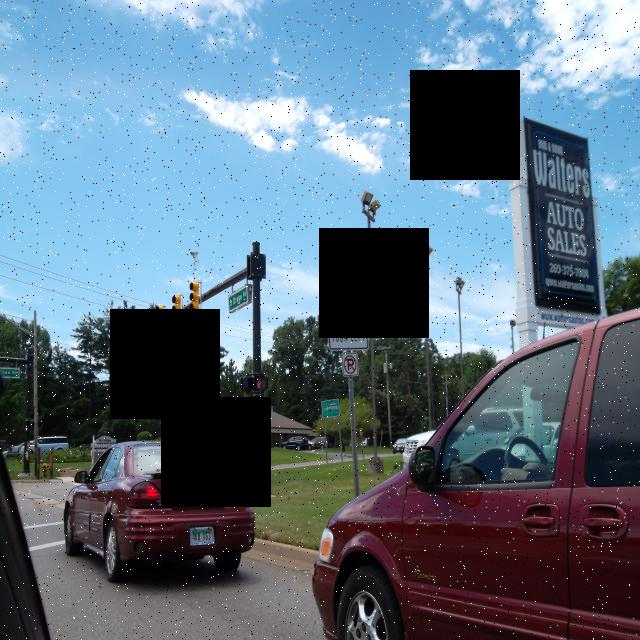regulatory: (328, 291, 372, 350), (340, 346, 360, 381)
